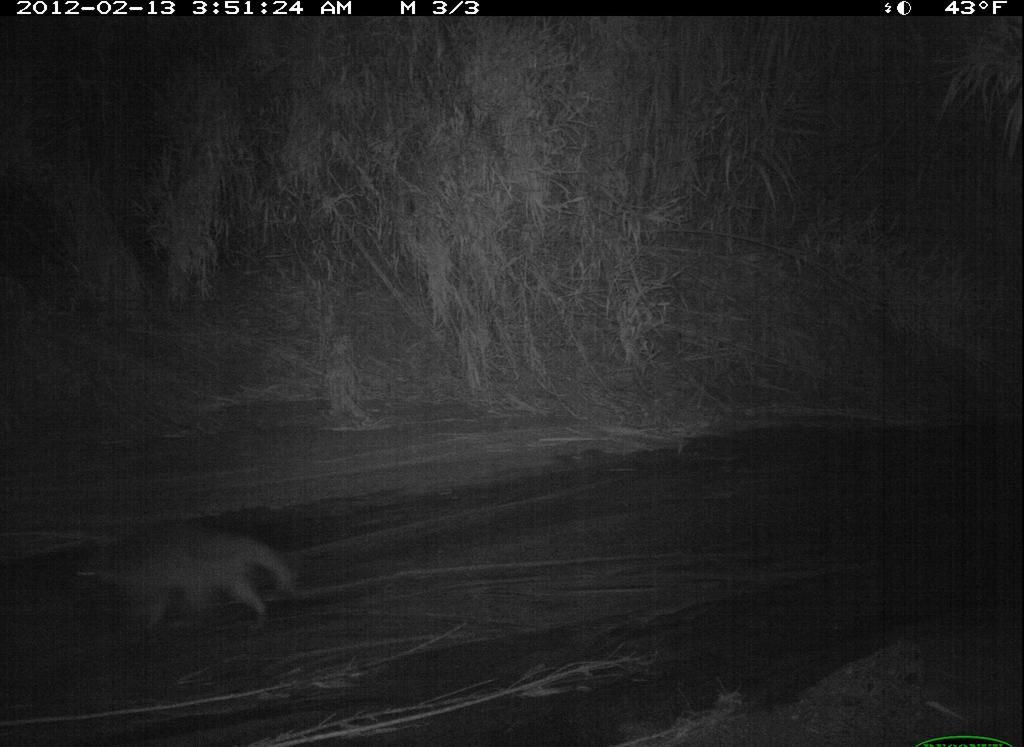raccoon: (56, 524, 333, 644)
